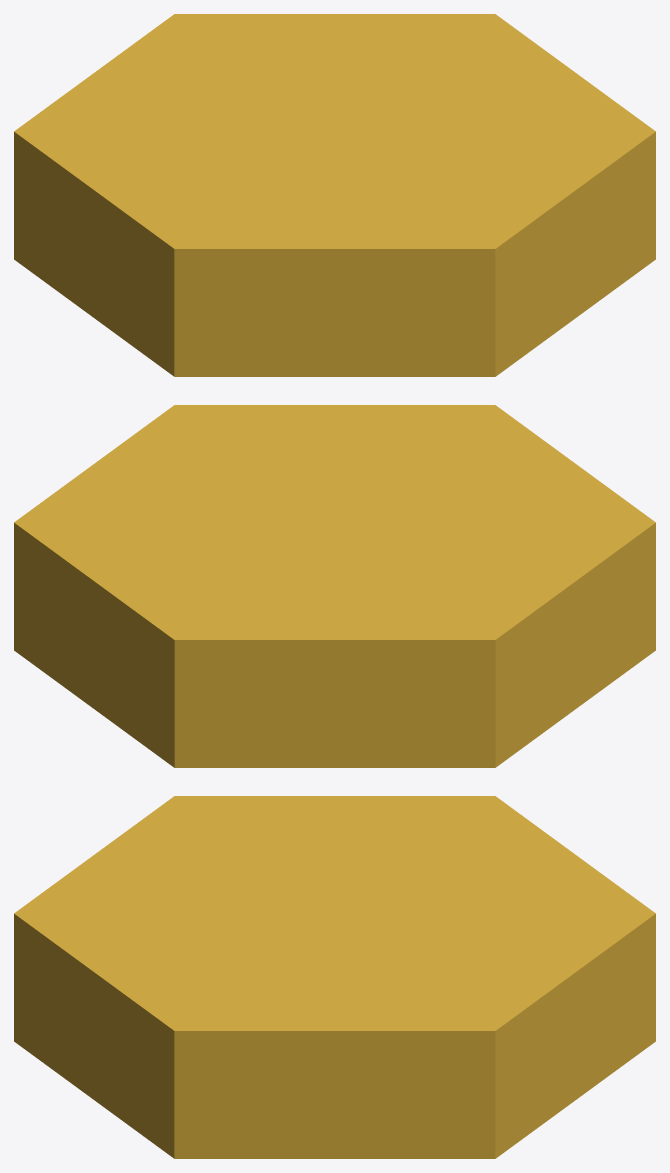
Rendered from Coin_01.fbx.
The picture shows the model from 3 angles, top to bottom: view 1: azimuth 30°, elevation 25°; view 2: azimuth 150°, elevation 25°; view 3: azimuth 270°, elevation 25°; orthographic projection.
Visible parts, largest first — view 1: Coin_01; view 2: Coin_01; view 3: Coin_01.
Part boxes in pixels (x1,y1,x2,y2): Coin_01: [14, 14, 655, 376]; Coin_01: [14, 405, 655, 767]; Coin_01: [14, 796, 655, 1158].
Bounding box in the file's own units: 0.0928 × 0.0236 × 0.1071.
